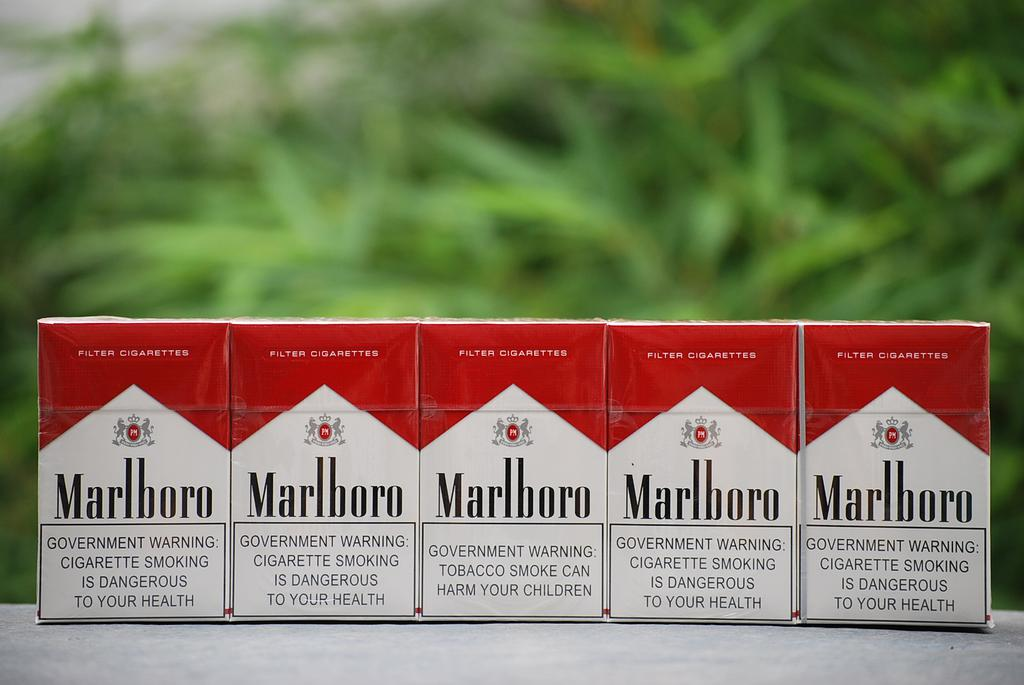marlboro_red: (801, 326, 992, 630), (38, 324, 230, 622), (232, 326, 420, 626), (610, 326, 798, 622), (422, 328, 605, 622)
